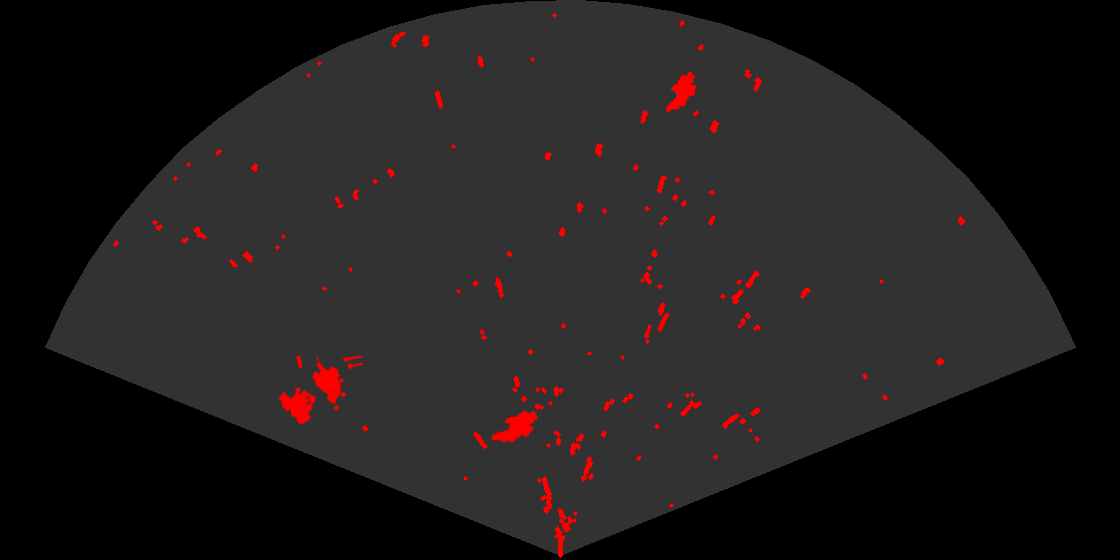AUV: (489, 409, 540, 445), (664, 70, 698, 114)
cage: (277, 356, 363, 426)
